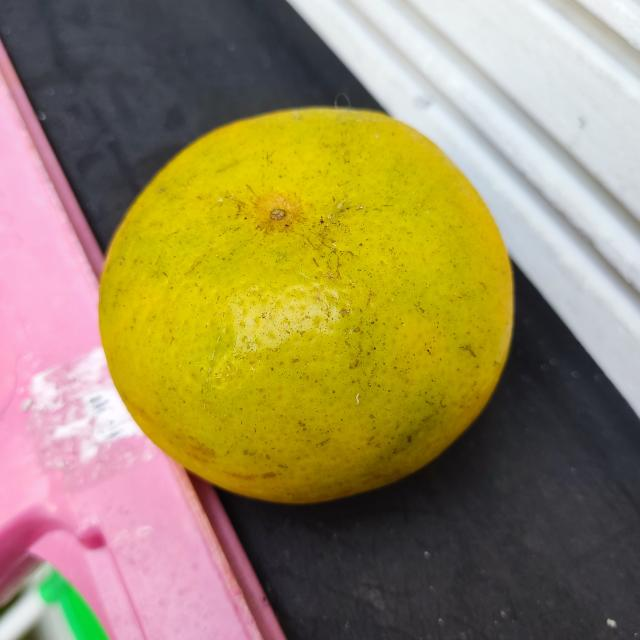orange: (94, 104, 516, 508)
